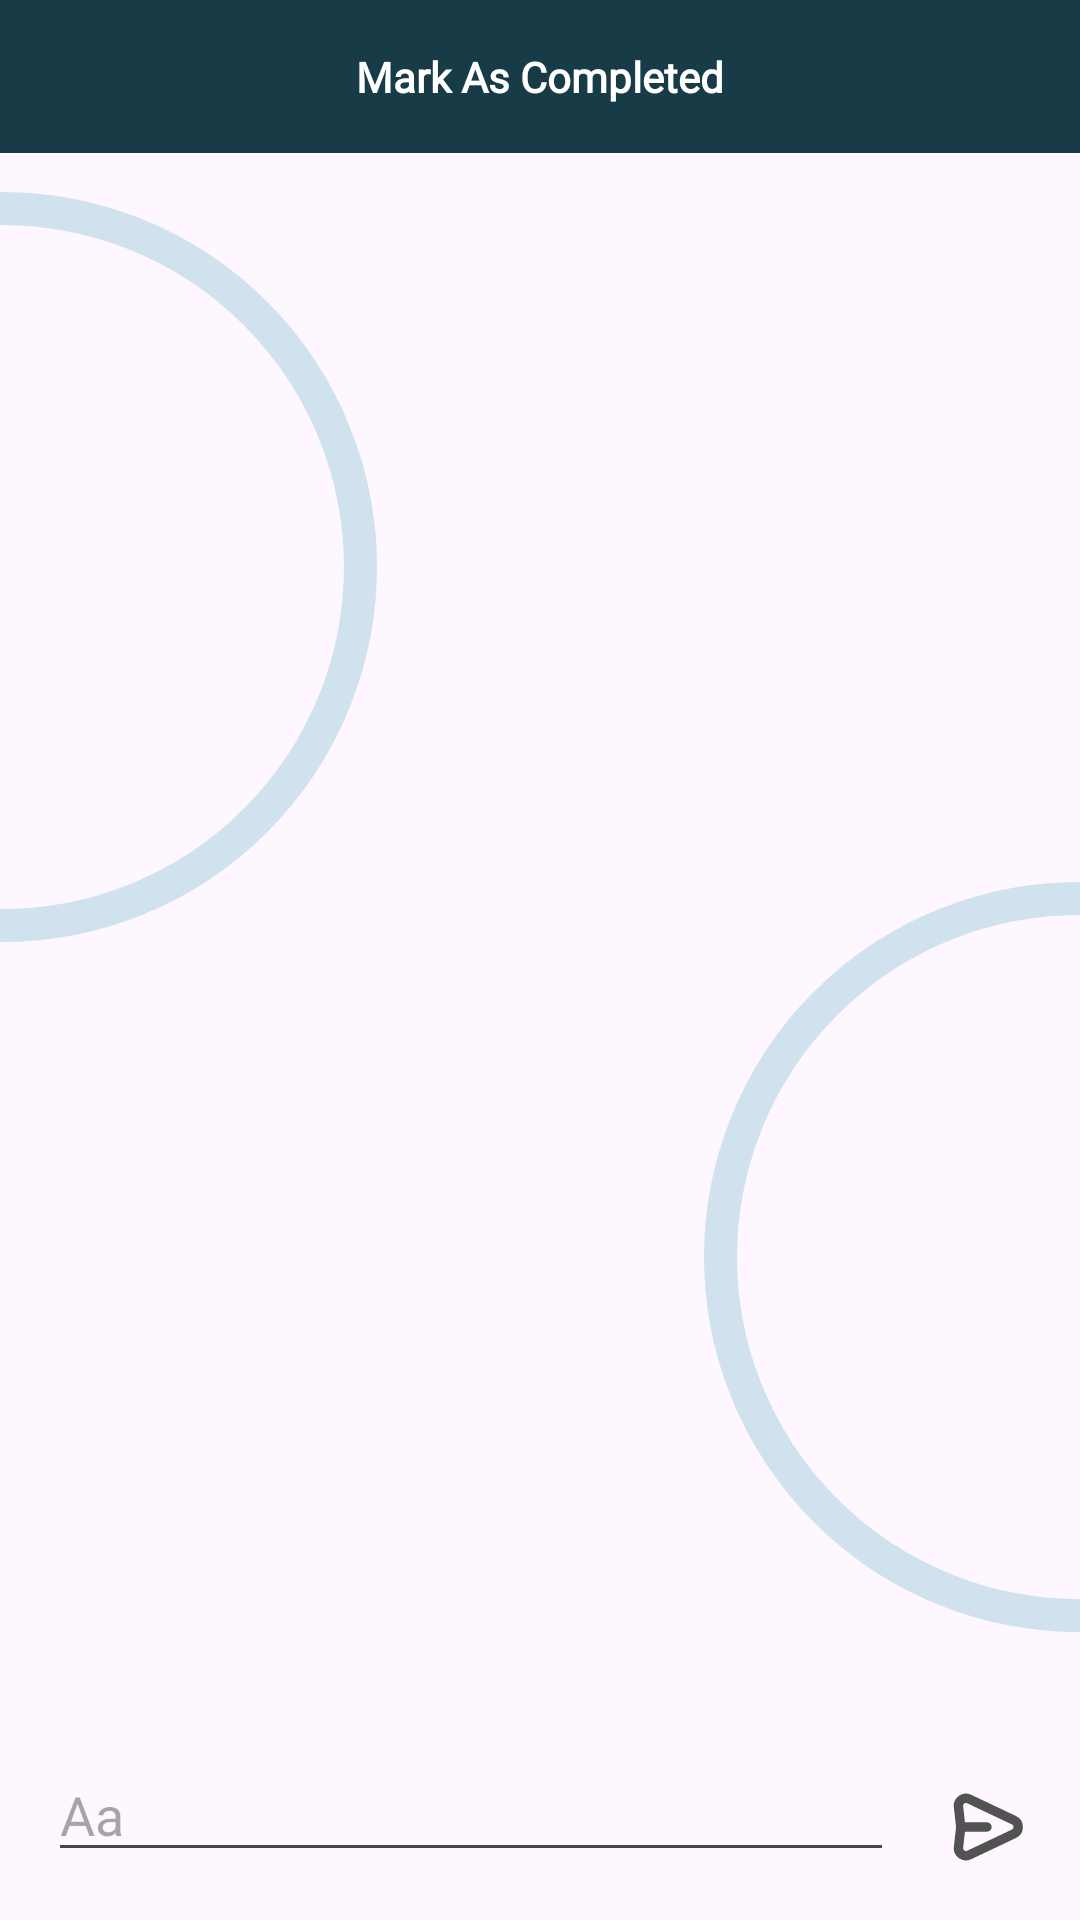

Icons on this 1080x1920 Android screen, each with the point to tap as (x,y):
send: (988,1827)
